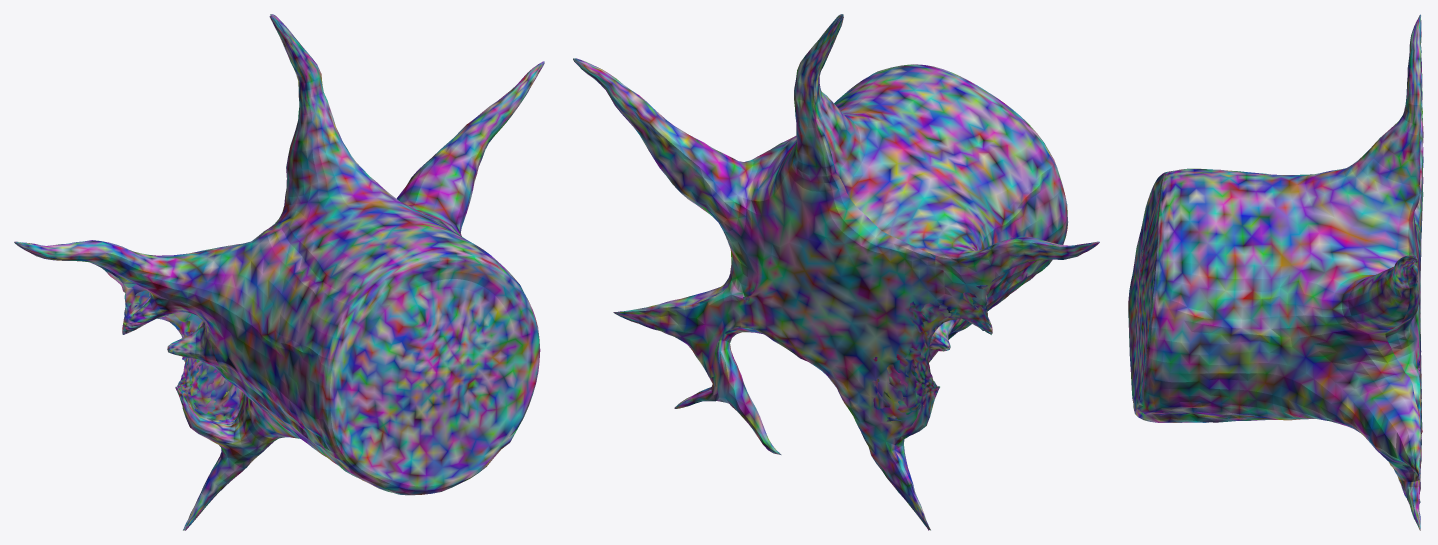
3 renders of one model, left to right at view 1: azimuth 30°, elevation 25°; view 2: azimuth 150°, elevation 25°; view 3: azimuth 270°, elevation 25°, orthographic.
Parts seen in each view (by area): view 1: Skin_ZSphere_1_oPP_Skin_ZSphere_1_oPP_0; view 2: Skin_ZSphere_1_oPP_Skin_ZSphere_1_oPP_0; view 3: Skin_ZSphere_1_oPP_Skin_ZSphere_1_oPP_0.
Part boxes in pixels (x1,y1,x2,y2): Skin_ZSphere_1_oPP_Skin_ZSphere_1_oPP_0: [14, 14, 544, 530]; Skin_ZSphere_1_oPP_Skin_ZSphere_1_oPP_0: [573, 14, 1099, 530]; Skin_ZSphere_1_oPP_Skin_ZSphere_1_oPP_0: [1128, 14, 1423, 530].
Size of the model in its own units: 172 by 154 by 83.56.
